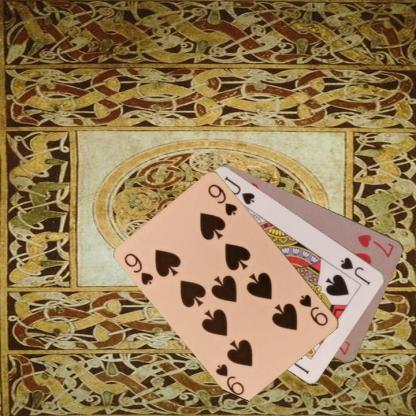7h: (355, 231, 396, 259)
9s: (121, 250, 156, 287), (297, 291, 330, 328)
Js: (338, 254, 372, 287)
